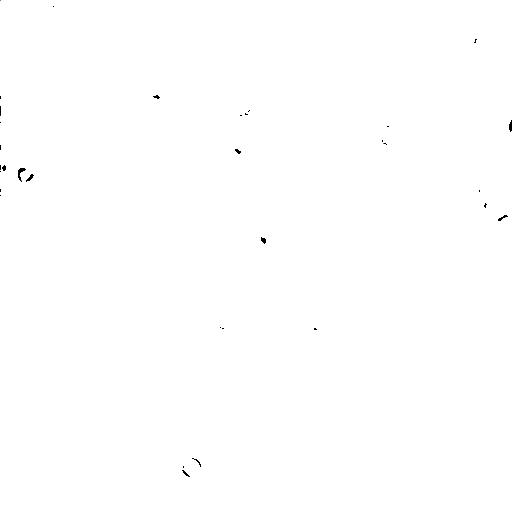micro-algae: (250, 310, 338, 396), (194, 413, 242, 460), (475, 185, 505, 219), (247, 223, 278, 254), (375, 121, 402, 145), (229, 93, 253, 118), (469, 31, 491, 57), (1, 150, 17, 185), (179, 456, 203, 479), (493, 214, 512, 241), (13, 164, 37, 184), (301, 327, 322, 347), (227, 137, 248, 156), (36, 0, 59, 13)
